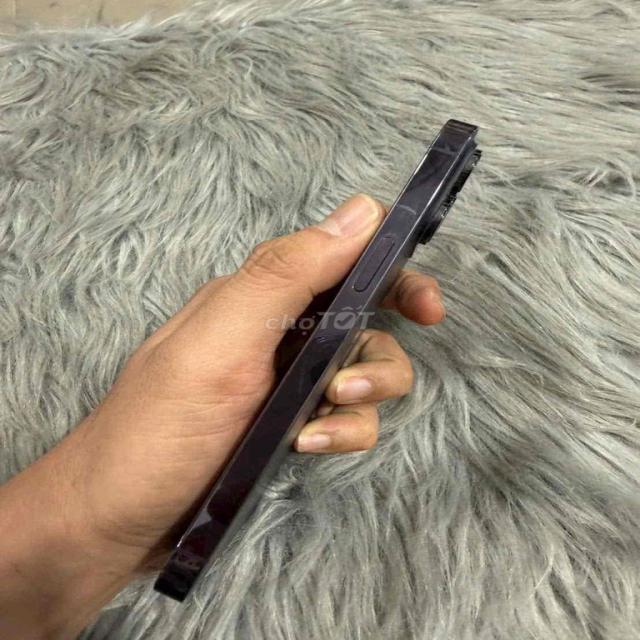gen_14: (154, 119, 481, 601)
scratch: (161, 463, 219, 557)
